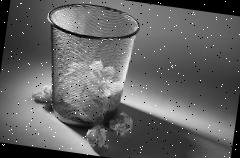paper: (50, 54, 126, 127), (106, 109, 134, 138), (84, 122, 110, 150), (30, 82, 52, 104)
